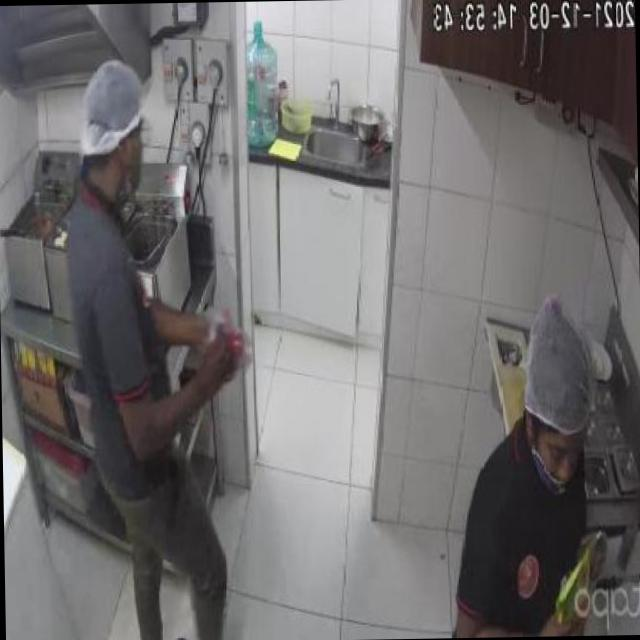hairnet: (526, 298, 592, 436), (78, 63, 138, 158)
